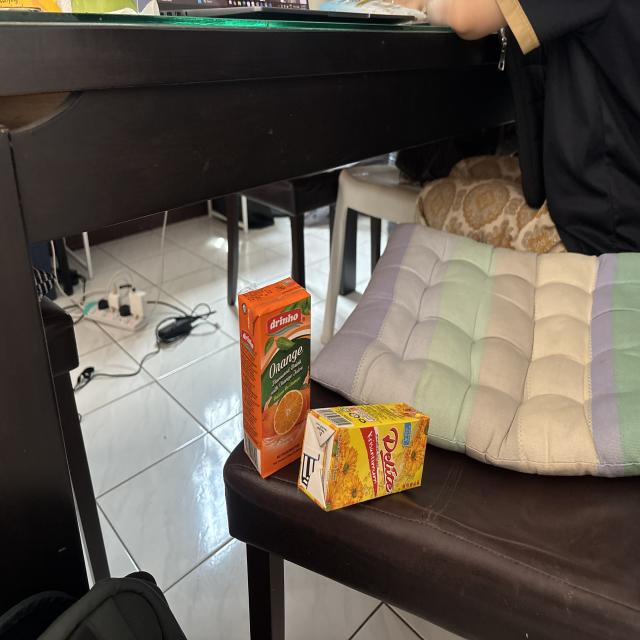drink_carton: (231, 268, 318, 484), (294, 394, 433, 515)
